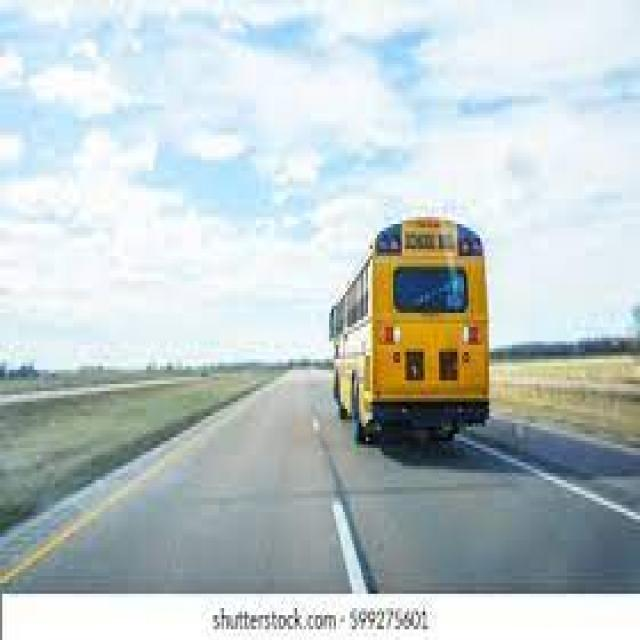BUS: (300, 182, 498, 502)
